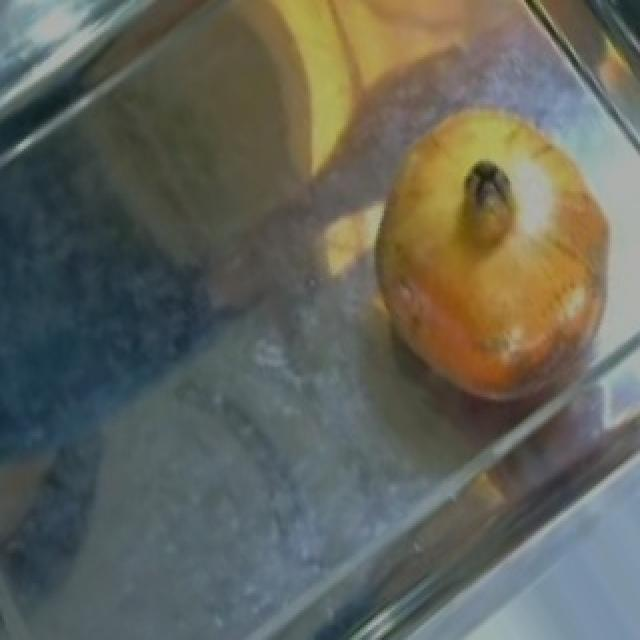fruit: (342, 188, 630, 436), (354, 72, 634, 308)
